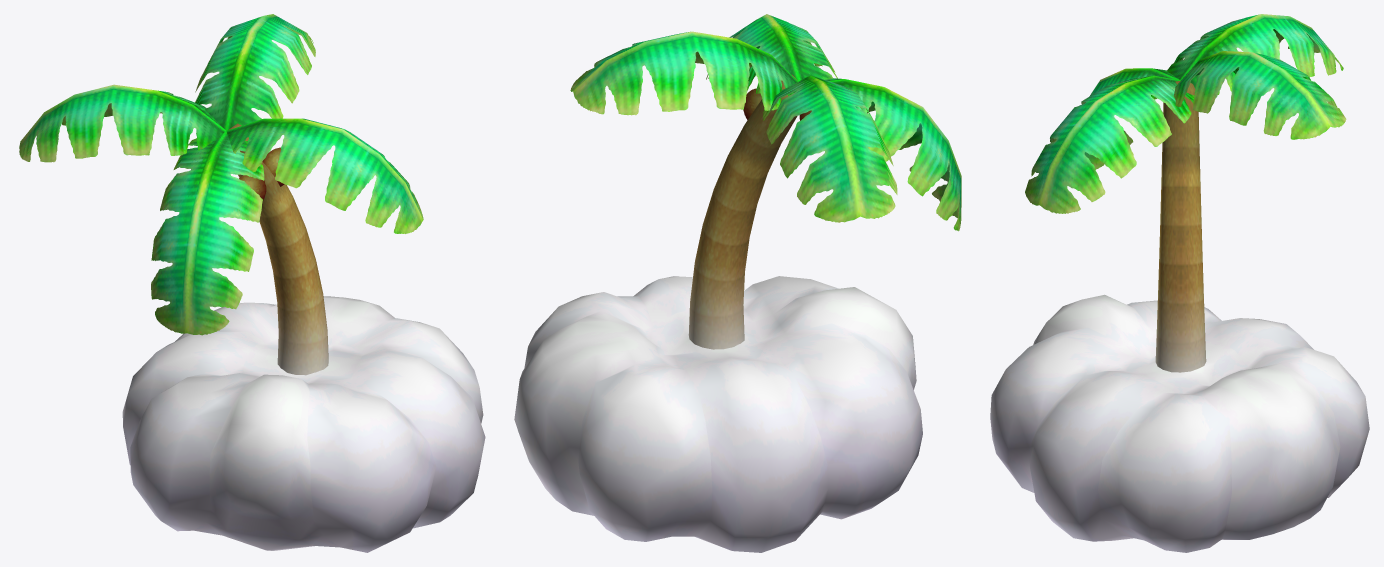
File: Island1.dae
3 renders of one model, left to right at view 1: azimuth 30°, elevation 25°; view 2: azimuth 150°, elevation 25°; view 3: azimuth 270°, elevation 25°, orthographic. The views are drawn at different scales.
Visible parts, largest first — view 1: DrawCall_0053, DrawCall_0137, DrawCall_0136, DrawCall_0134, DrawCall_0052, DrawCall_0135; view 2: DrawCall_0053, DrawCall_0134, DrawCall_0052, DrawCall_0135, DrawCall_0137, DrawCall_0136; view 3: DrawCall_0053, DrawCall_0052, DrawCall_0136, DrawCall_0135, DrawCall_0134, DrawCall_0137.
Part boxes in pixels (x1=…): DrawCall_0053: x1=122, y1=296, x2=485, y2=552; DrawCall_0137: x1=151, y1=131, x2=264, y2=335; DrawCall_0136: x1=226, y1=118, x2=423, y2=233; DrawCall_0134: x1=19, y1=84, x2=225, y2=162; DrawCall_0052: x1=228, y1=123, x2=328, y2=375; DrawCall_0135: x1=195, y1=14, x2=315, y2=130; DrawCall_0053: x1=514, y1=276, x2=922, y2=552; DrawCall_0134: x1=763, y1=75, x2=897, y2=222; DrawCall_0052: x1=688, y1=74, x2=797, y2=349; DrawCall_0135: x1=570, y1=31, x2=797, y2=115; DrawCall_0137: x1=825, y1=78, x2=961, y2=231; DrawCall_0136: x1=706, y1=14, x2=837, y2=93; DrawCall_0053: x1=990, y1=294, x2=1369, y2=552; DrawCall_0052: x1=1155, y1=81, x2=1206, y2=372; DrawCall_0136: x1=1025, y1=75, x2=1194, y2=213; DrawCall_0135: x1=1174, y1=51, x2=1346, y2=139; DrawCall_0134: x1=1167, y1=14, x2=1343, y2=94; DrawCall_0137: x1=1084, y1=68, x2=1180, y2=169.
Bounding box in the file's own units: 532 × 586 × 447.
Materials: 3 (3 with a texture image).
